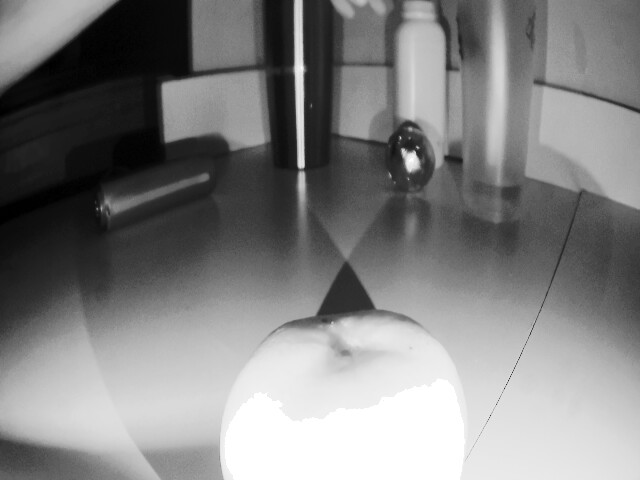black: (376, 118, 443, 192)
